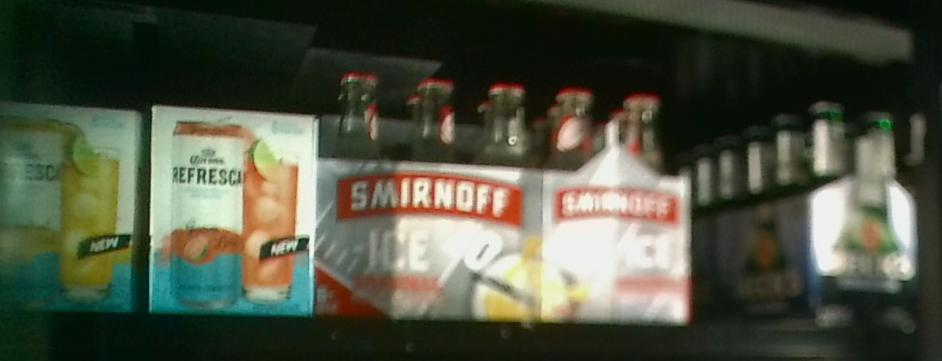bottle: (321, 71, 542, 322), (543, 81, 689, 328), (149, 104, 318, 316), (1, 103, 145, 316), (803, 101, 913, 323)
